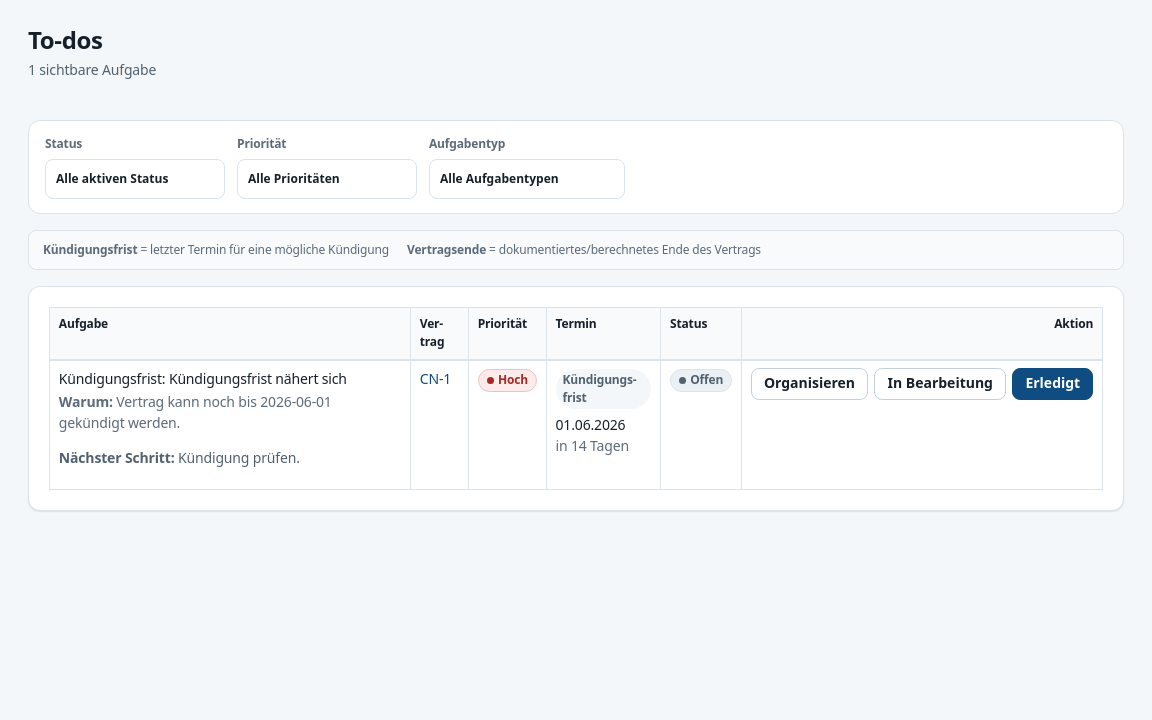
it: To-dos (PR-4 / FE-09) › meldet einen Fehler, wenn die Status-Aktualisierung fehlschlägt
Click the button "Erledigt" at (1053, 384), box [1012, 368, 1093, 400]
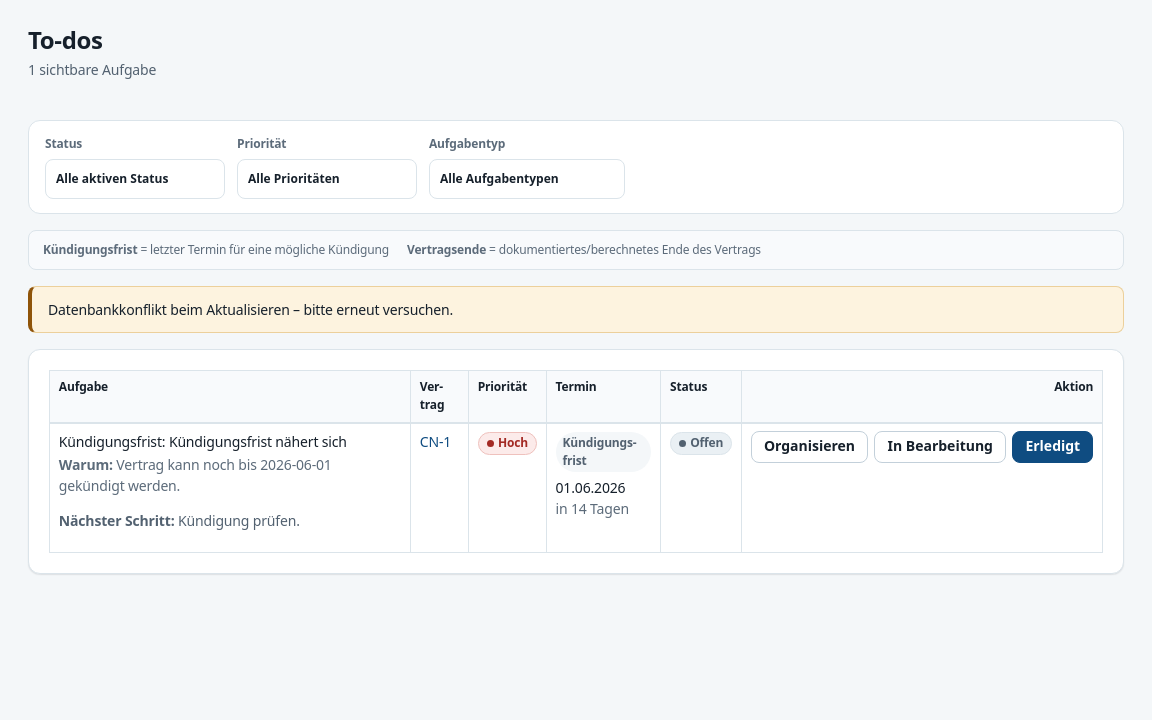
Expected: the text "Datenbankkonflikt beim Aktualisieren – bitte erneut versuchen." is shown, [48, 299, 453, 320]
